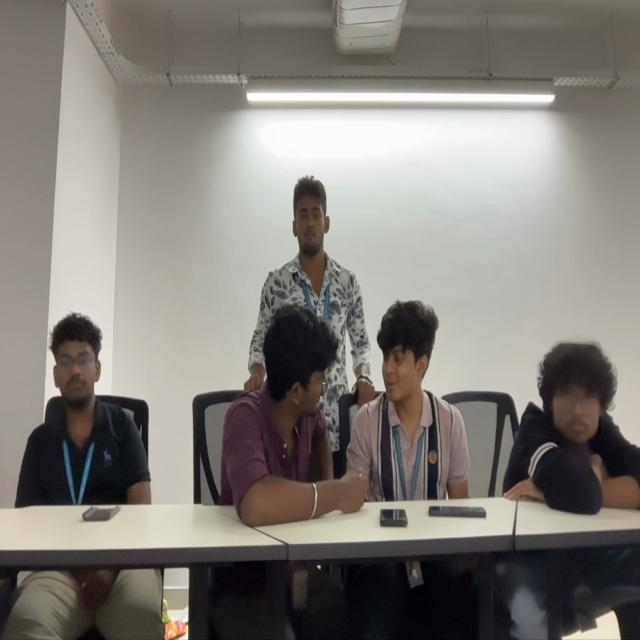Isolated: (16, 312, 150, 501), (505, 340, 640, 514)
socializing: (222, 174, 475, 518)
